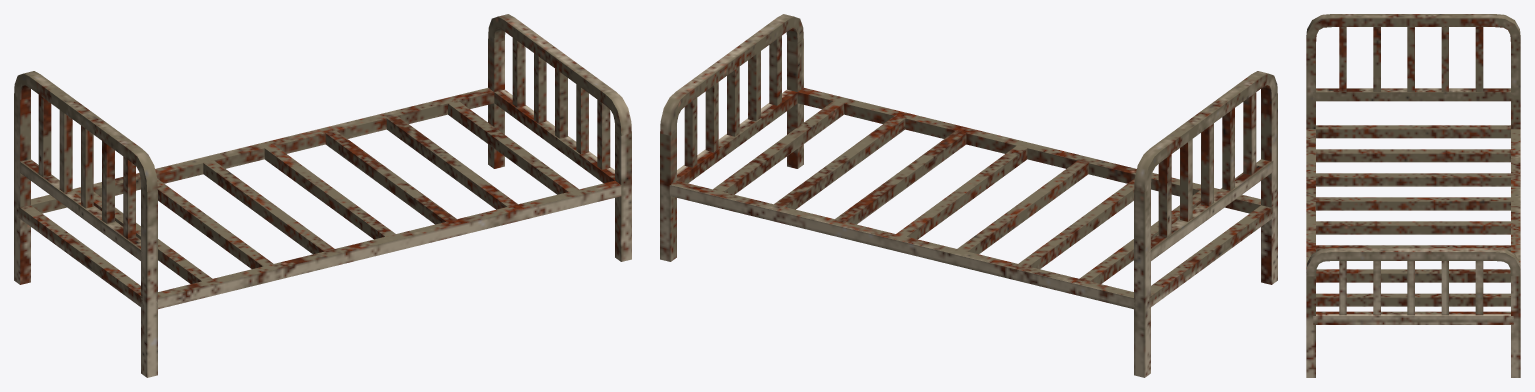
File: bed_frame.fbx
3 renders of one model, left to right at view 1: azimuth 30°, elevation 25°; view 2: azimuth 150°, elevation 25°; view 3: azimuth 270°, elevation 25°, orthographic. The views are drawn at different scales.
Visible parts, largest first — view 1: bed_frame; view 2: bed_frame; view 3: bed_frame.
Part boxes in pixels (box(x1,y1,x2,y2)): bed_frame: box(14, 14, 631, 377); bed_frame: box(660, 14, 1277, 377); bed_frame: box(1306, 14, 1520, 377).
Size of the model in its own units: 198 by 84.18 by 94.35.
1 material, 1 textured.
